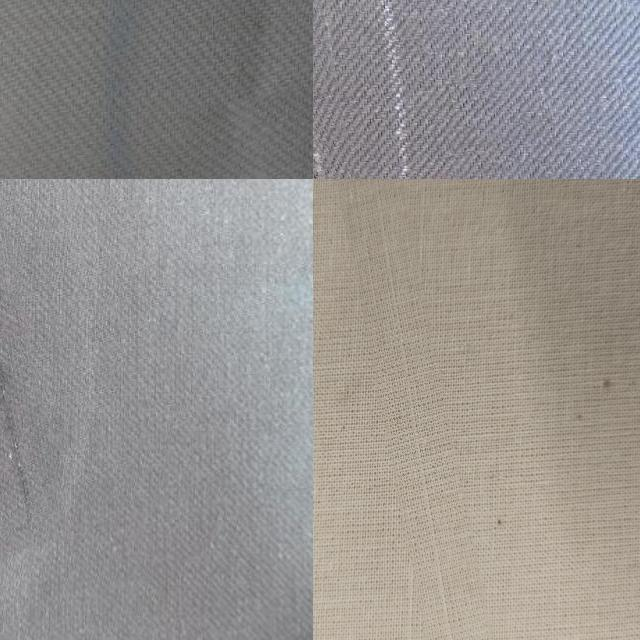stains: (356, 179, 482, 640), (0, 179, 46, 553), (313, 0, 387, 179)
